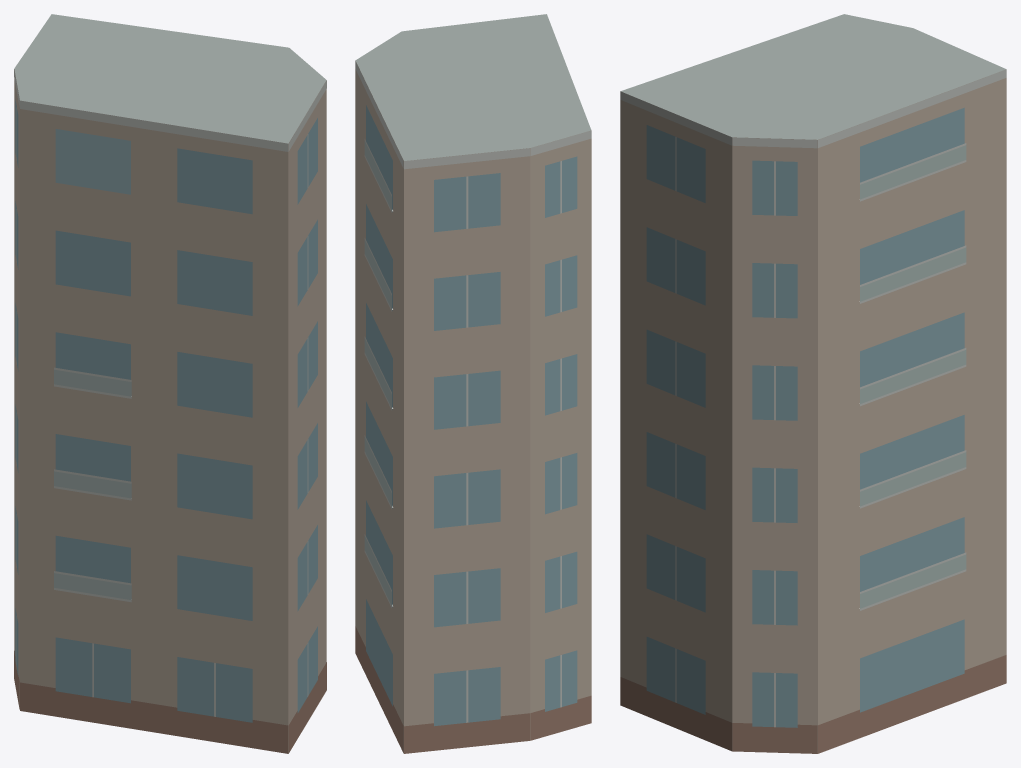
The model's file is survey-upis-32463060.glb.
The picture shows the model from 3 angles, left to right: view 1: azimuth 30°, elevation 25°; view 2: azimuth 150°, elevation 25°; view 3: azimuth 270°, elevation 25°; orthographic projection. The views are drawn at different scales.
Parts seen in each view (by area): view 1: survey-upis-32463060.tmp; view 2: survey-upis-32463060.tmp; view 3: survey-upis-32463060.tmp.
Boxes of the visible parts, box(x1,y1,x2,y2) form: survey-upis-32463060.tmp: box(14, 14, 326, 753); survey-upis-32463060.tmp: box(355, 14, 591, 753); survey-upis-32463060.tmp: box(620, 14, 1006, 753).
Bounding box in the file's own units: 7.79 × 17.7 × 10.1.
